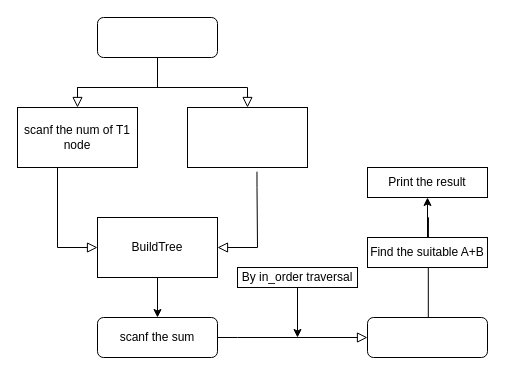
The diagram is 505 pixels wide and 375 high, and some of its shapes have lost their labels. Each missing label, with the centre of its shape:
"Change the T1 to a ascending array" belongs at (x=427, y=337).
"Main" belongs at (x=157, y=37).
"scanf the num of T2 node" belongs at (x=247, y=137).
